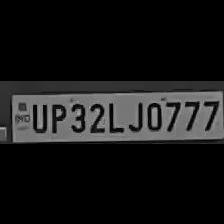0: (142, 97, 162, 131)
2: (86, 98, 106, 132)
3: (66, 98, 86, 132)
7: (162, 97, 182, 131), (199, 96, 219, 130), (180, 97, 200, 130)
J: (125, 97, 143, 131)
L: (105, 96, 123, 132)
P: (47, 100, 67, 132)
U: (28, 100, 48, 132)
